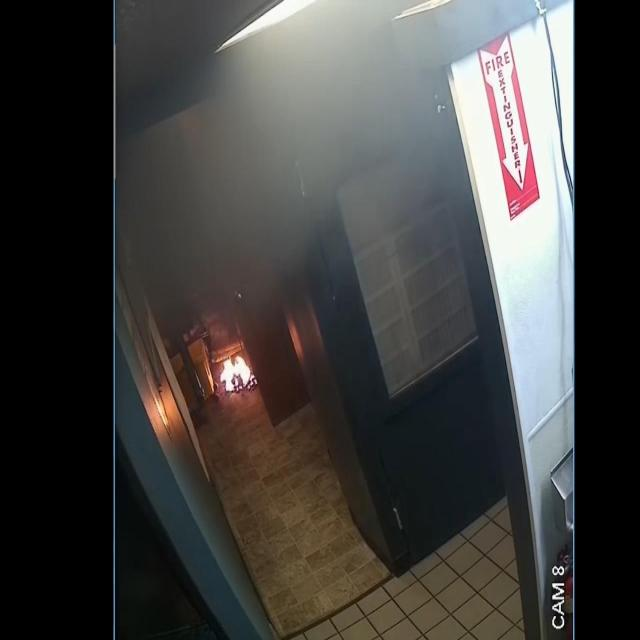fire: (220, 357, 250, 392)
